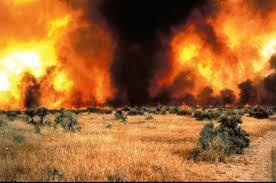fire: (158, 3, 275, 105), (0, 11, 109, 112)
